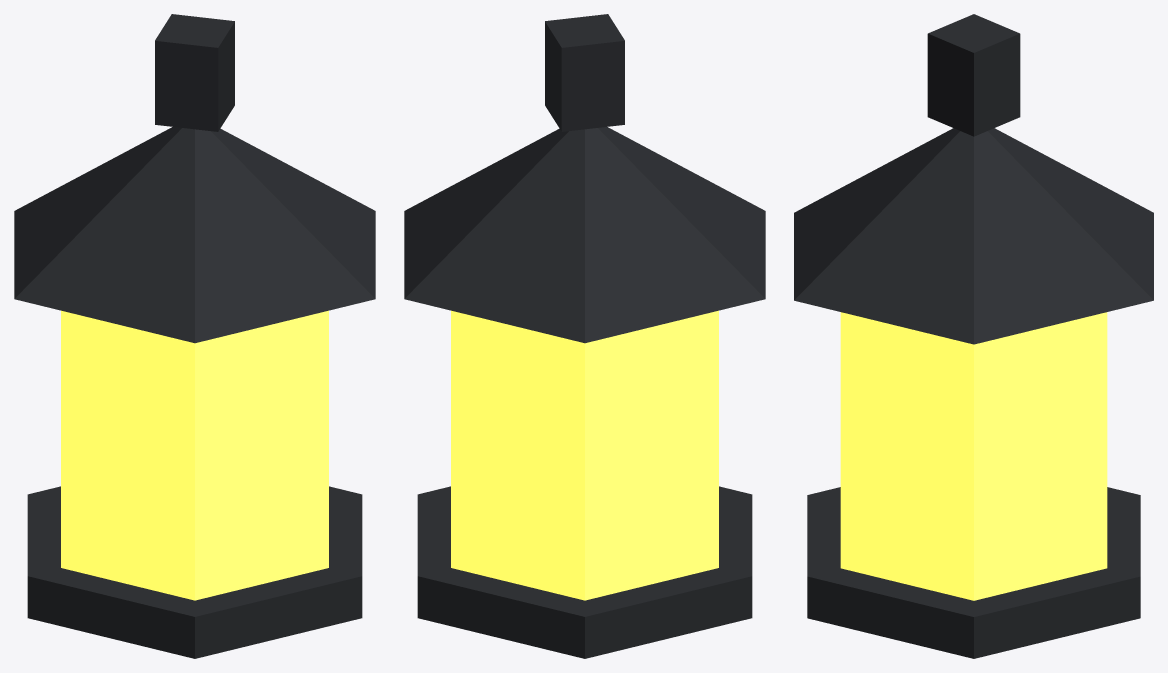
Rendered from tiny_lantern.glb.
3 renders of one model, left to right at view 1: azimuth 30°, elevation 25°; view 2: azimuth 150°, elevation 25°; view 3: azimuth 270°, elevation 25°, orthographic.
Visible parts, largest first — view 1: tiny_lantern; view 2: tiny_lantern; view 3: tiny_lantern.
Part boxes in pixels (<box>): tiny_lantern: <box>14,14,375,658</box>; tiny_lantern: <box>404,14,765,658</box>; tiny_lantern: <box>794,14,1153,658</box>.
Size of the model in its own units: 0.054 by 0.078 by 0.0468.
